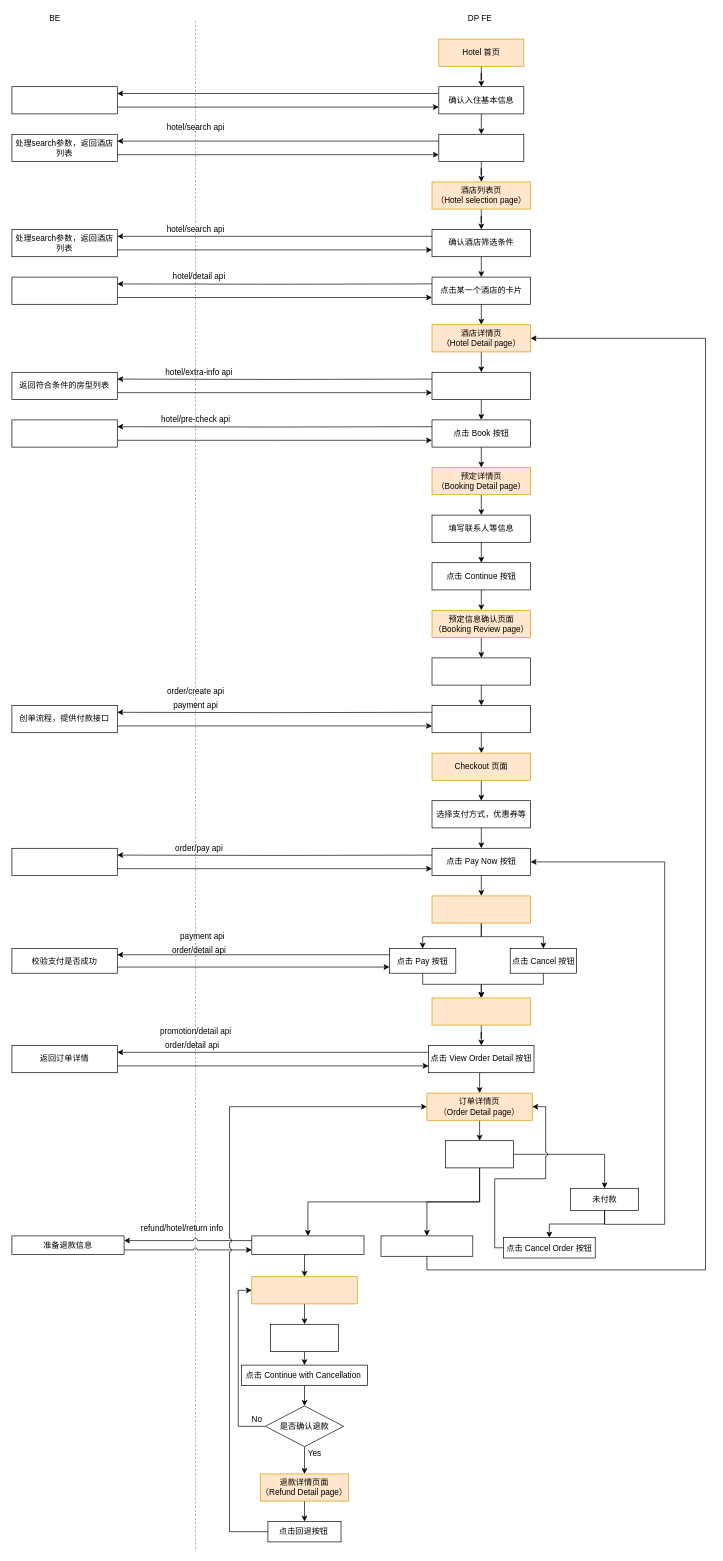
Image size: 723x1561. Some labels were removed from this diagram. Each missing label, with the centre of its shape:
"付款结果页面 （Payment Result page）" goes at [481,1011].
"判断订单状态" goes at [479,1154].
"发起退款页面 （Cancel Booking page）" goes at [304,1290].
"处理定位的相关信息" goes at [64,100].
"接收付款方式，订单信息，进行后续支付校验流程" goes at [64,862].
"校验room，adults等信息，通过则进行下一步预定流程" goes at [64,433].
"点击 Buy Again 按钮" goes at [426,1245].
"点击 Cancel Reservation 按钮" goes at [307,1245].
"点击 Checkout 按钮" goes at [481,719].
"点击 Search 按钮" goes at [481,148].
"确认信息无误" goes at [481,671].
"确认房型筛选条件" goes at [481,386].
"返回酒店详情" goes at [64,290].
"选择退款理由" goes at [304,1338].
"通用付款确认页面 （输入银行卡验证码等）" goes at [481,909].
